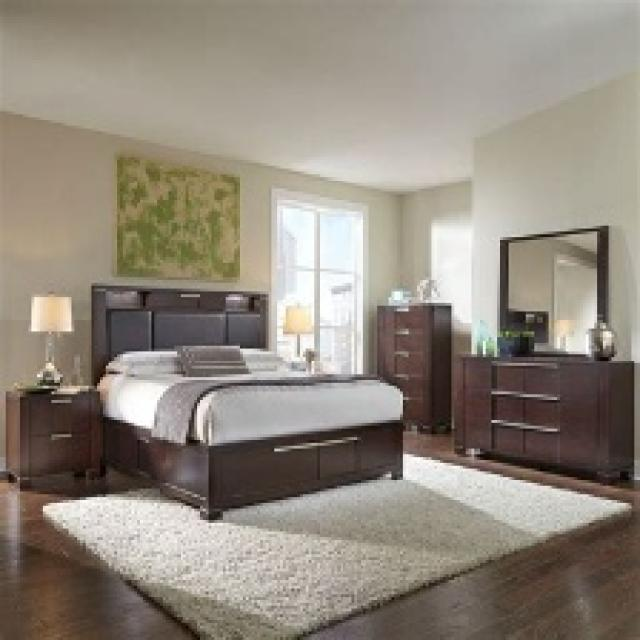Bed: (88, 283, 403, 520)
